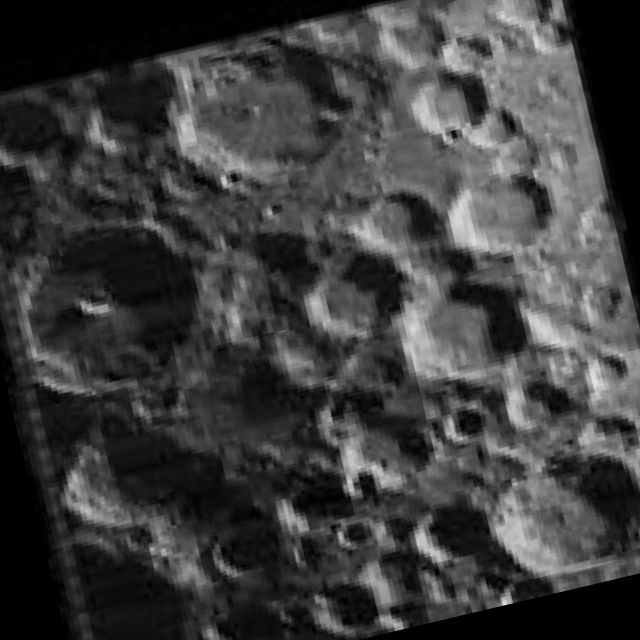crater: (22, 177, 218, 343), (226, 43, 414, 177), (444, 503, 596, 622), (388, 309, 520, 406), (458, 223, 578, 295), (317, 264, 417, 345), (42, 28, 129, 101), (458, 103, 537, 171), (376, 212, 464, 270)
